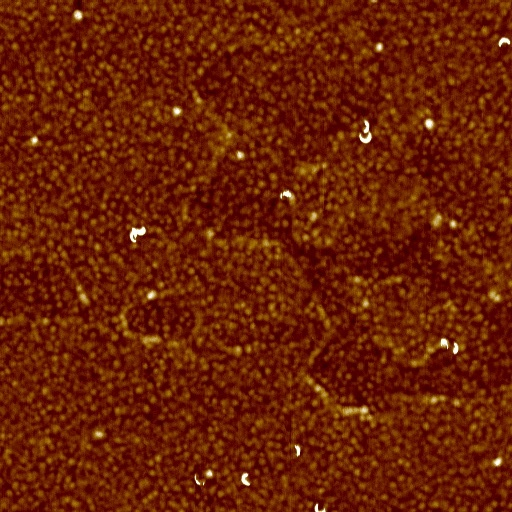-1: (127, 226, 148, 244), (421, 117, 435, 132), (277, 189, 292, 201), (170, 106, 183, 118), (438, 336, 451, 348), (234, 150, 246, 161), (72, 11, 84, 21), (29, 137, 38, 147), (373, 43, 383, 52)
1/4: (192, 472, 204, 490), (450, 340, 461, 355), (293, 444, 302, 457)
2/4: (493, 36, 511, 51), (355, 133, 374, 147), (239, 471, 254, 487), (312, 503, 327, 511)
